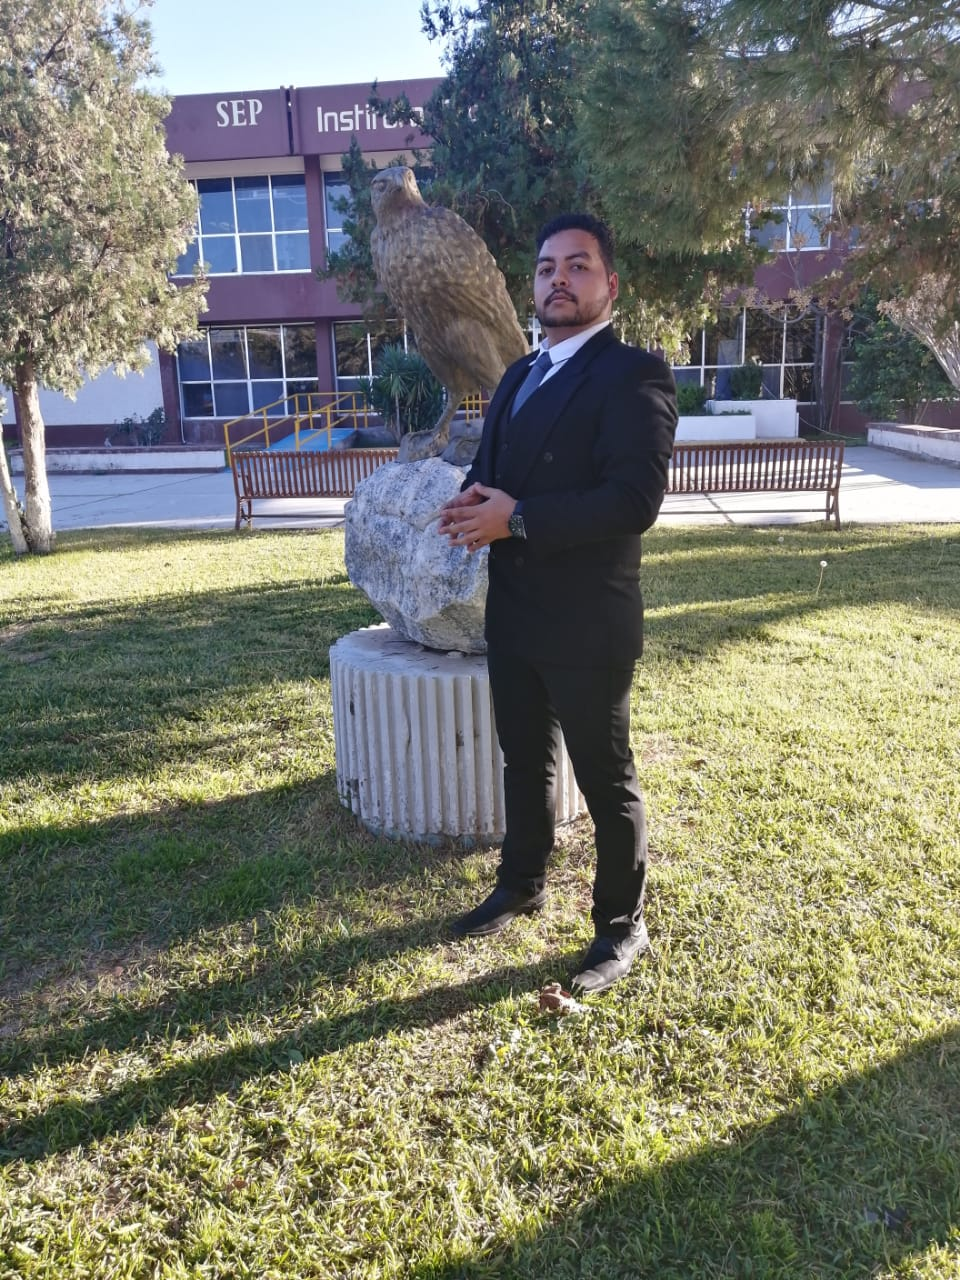Yoshi: (416, 175, 725, 707)
